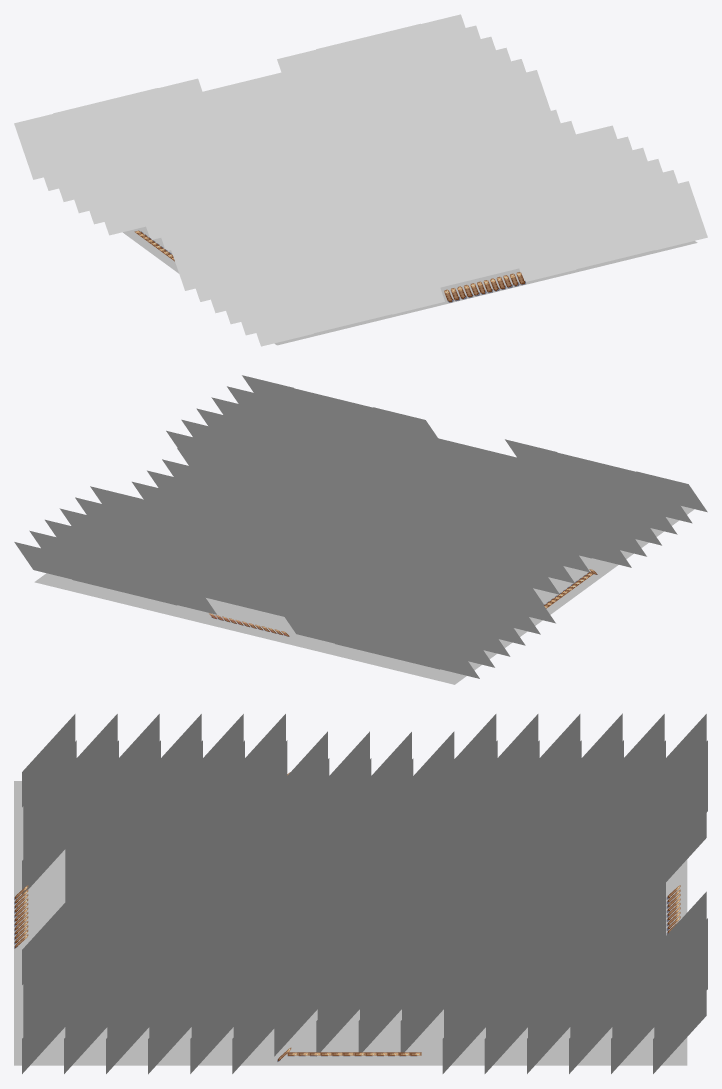
File: Safari Zone_Areas - Limit.dae
3 views of the same model, one above another, from view 1: azimuth 30°, elevation 25°; view 2: azimuth 150°, elevation 25°; view 3: azimuth 270°, elevation 25° (orthographic). The views are drawn at different scales.
Visible parts, largest first — view 1: ro_safaric; view 2: ro_safaric; view 3: ro_safaric.
Boxes of the visible parts, left/top/right/bottom form: ro_safaric: left=14, top=14, right=707, bottom=346; ro_safaric: left=14, top=375, right=707, bottom=684; ro_safaric: left=14, top=713, right=707, bottom=1074.
Bounding box in the file's own units: 544 × 528 × 49.34.
